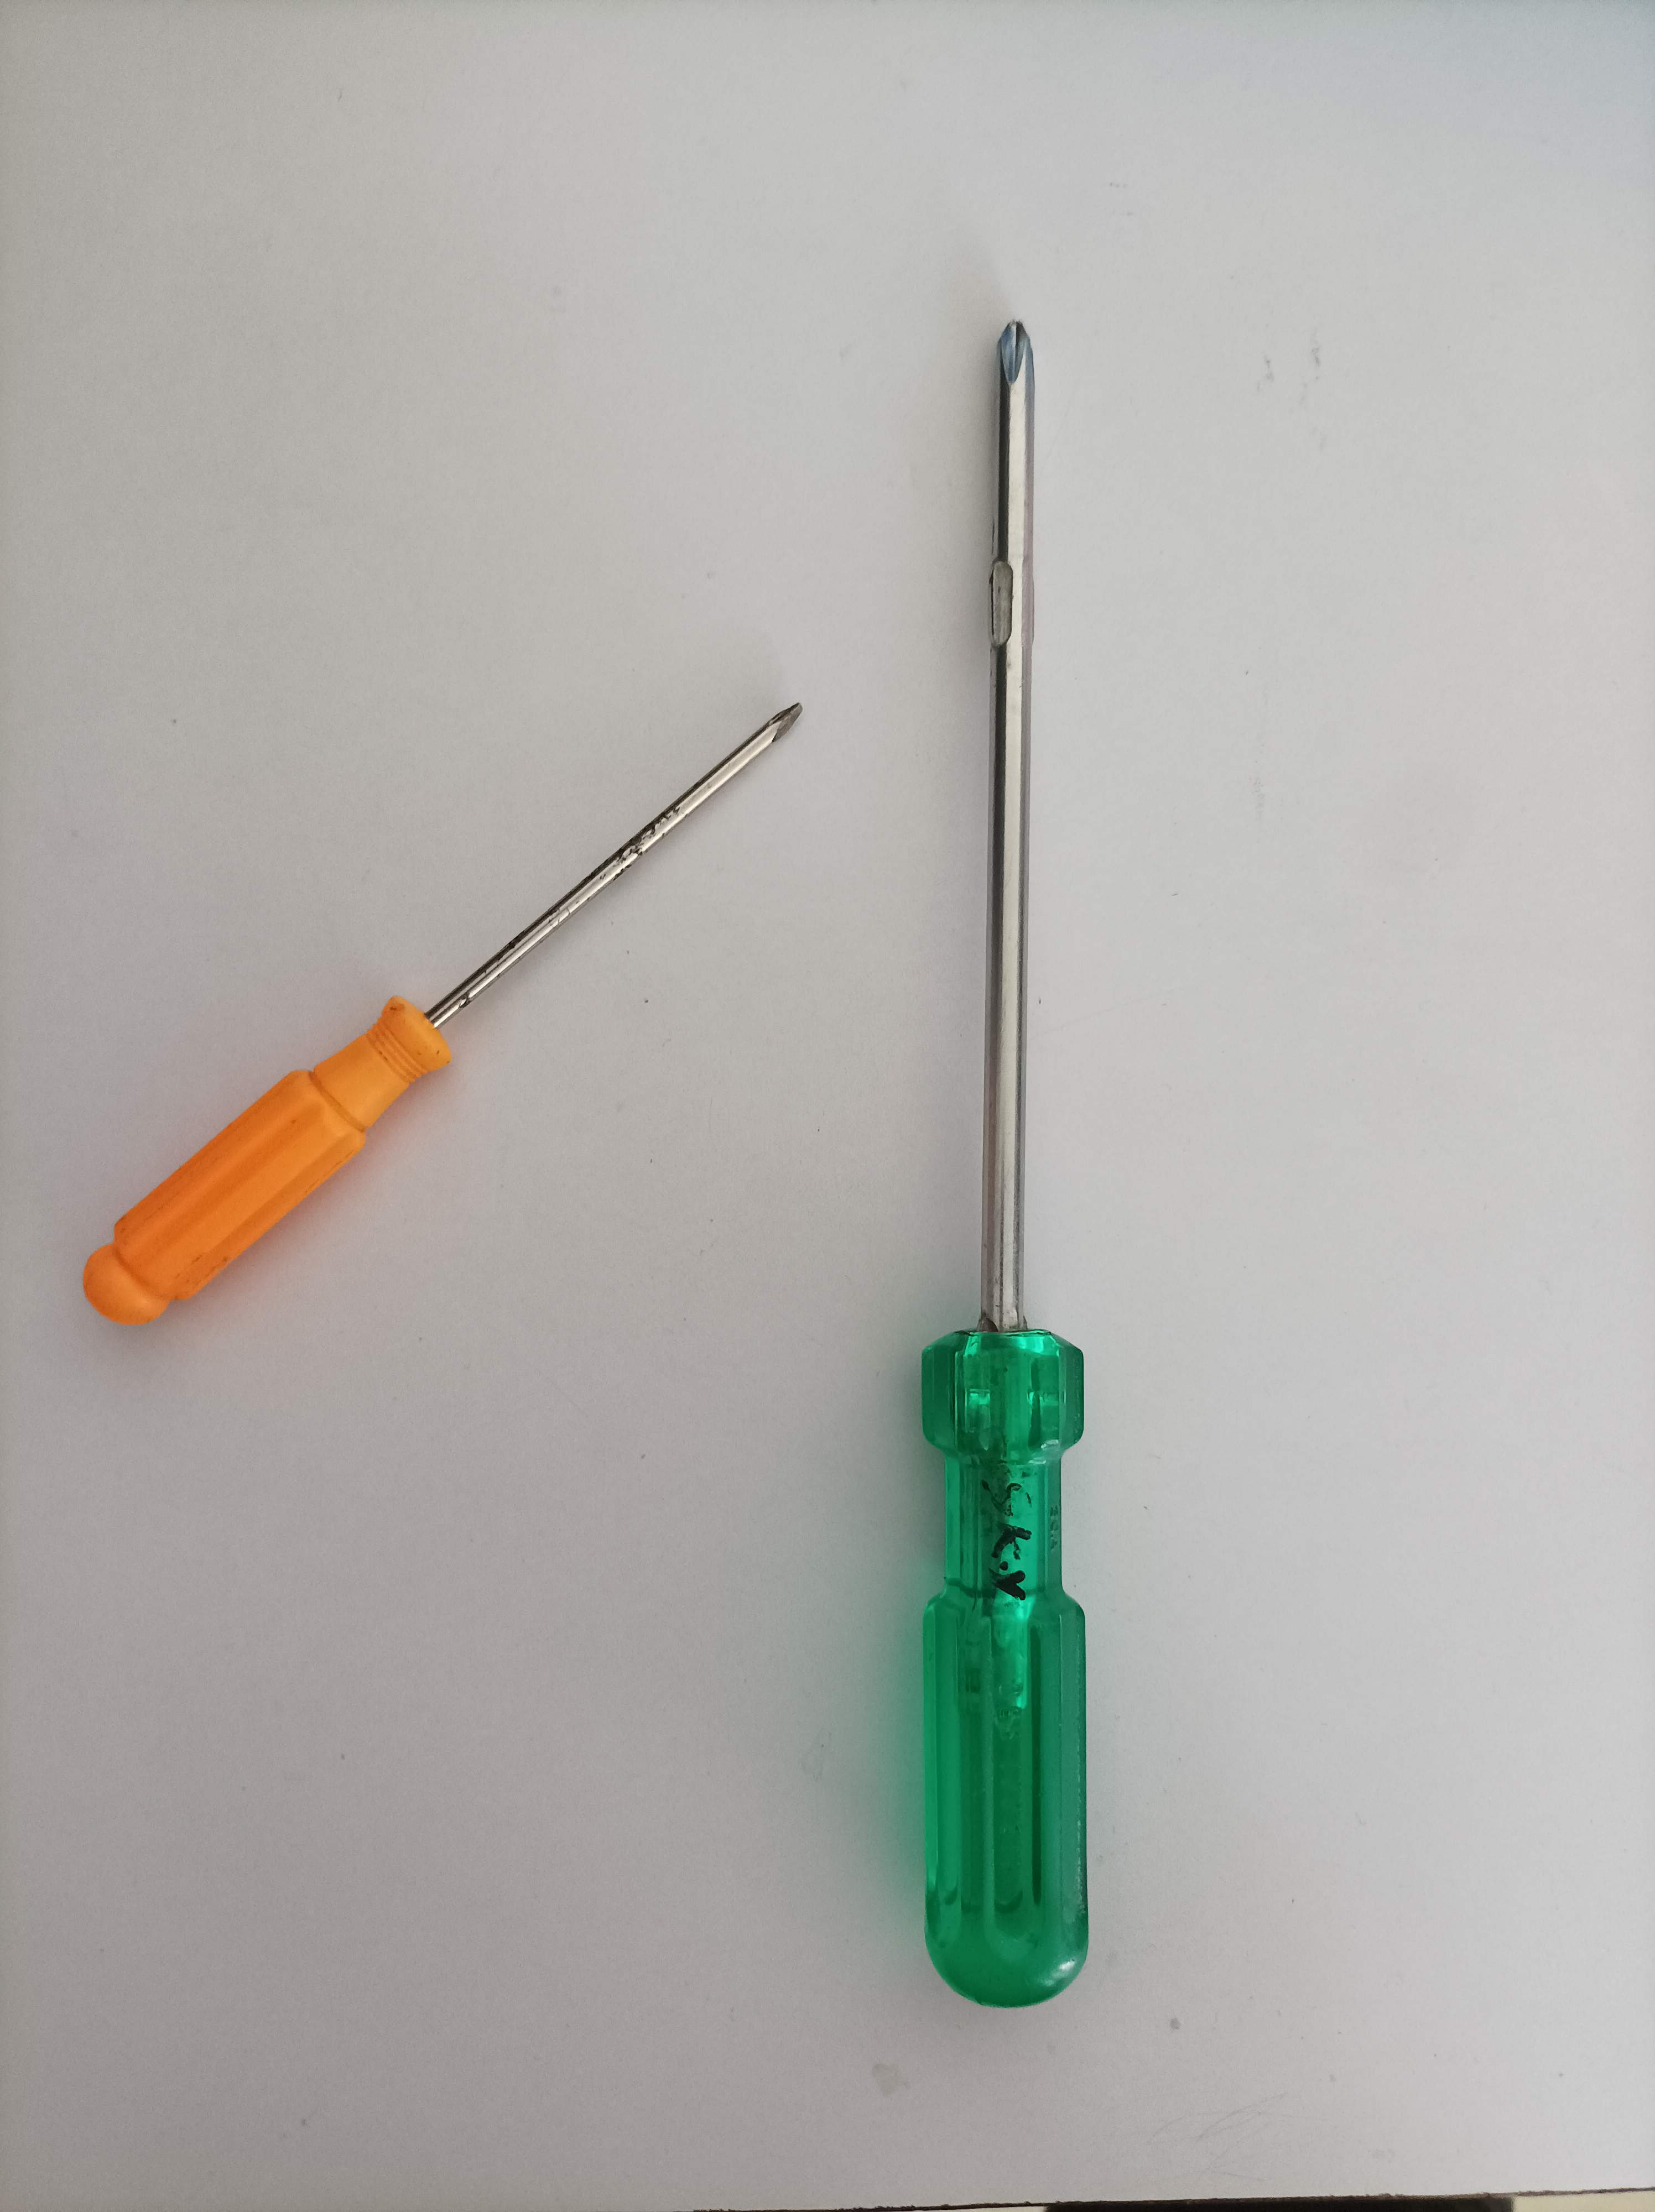screwdriver: (70, 690, 812, 1336), (899, 301, 1118, 2023)
